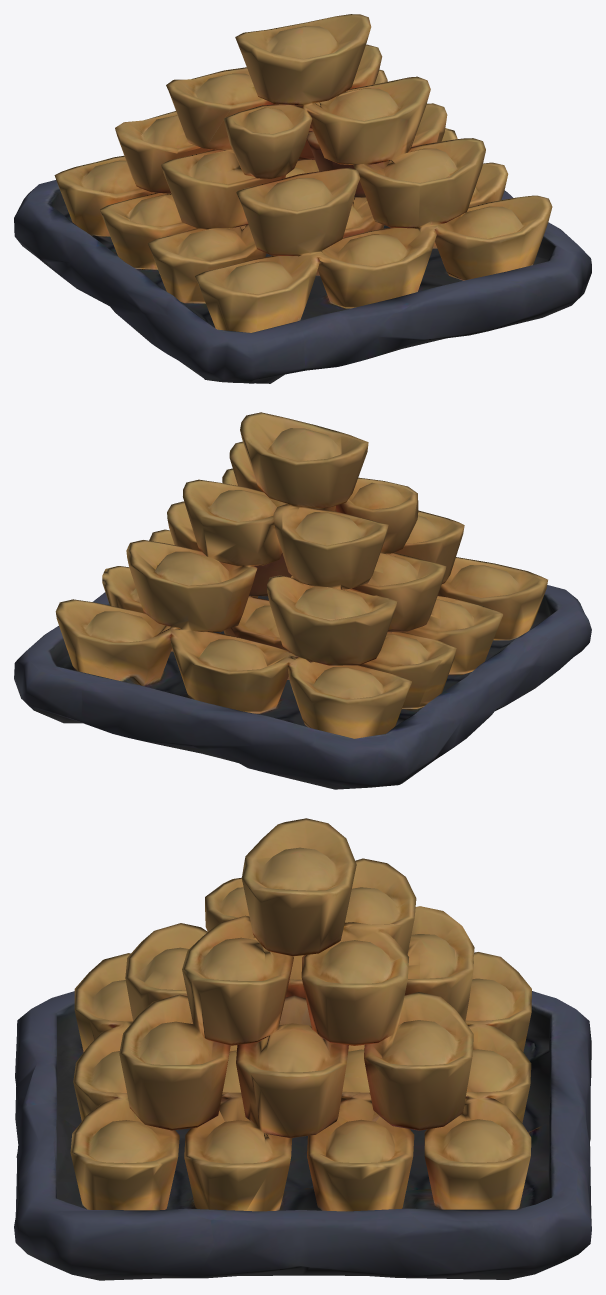
The model's file is tg_zhengcai.glb.
3 renders of one model, top to bottom at view 1: azimuth 30°, elevation 25°; view 2: azimuth 150°, elevation 25°; view 3: azimuth 270°, elevation 25°, orthographic. The views are drawn at different scales.
Visible parts, largest first — view 1: tripo_node_2e276396-972d-4bd5-897f-20469ae62454; view 2: tripo_node_2e276396-972d-4bd5-897f-20469ae62454; view 3: tripo_node_2e276396-972d-4bd5-897f-20469ae62454.
Boxes of the visible parts, left/top/right/bottom form: tripo_node_2e276396-972d-4bd5-897f-20469ae62454: left=14, top=14, right=591, bottom=383; tripo_node_2e276396-972d-4bd5-897f-20469ae62454: left=14, top=412, right=591, bottom=789; tripo_node_2e276396-972d-4bd5-897f-20469ae62454: left=14, top=818, right=591, bottom=1280.
Size of the model in its own units: 0.9795 by 0.5938 by 0.9794.
1 material, 1 textured.
